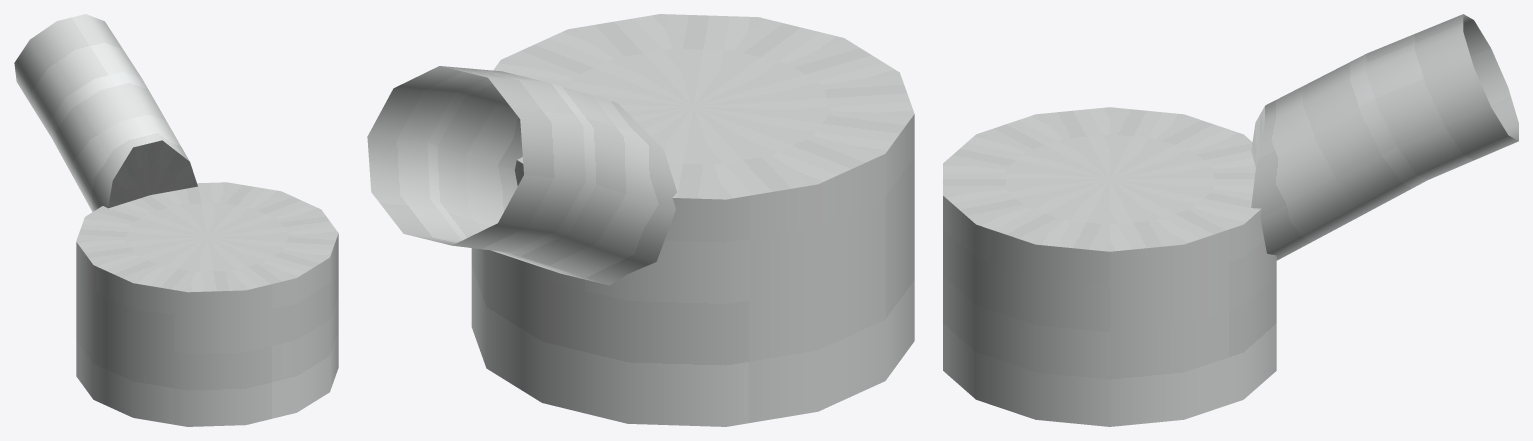
The model's file is nycsignalarm_regular6_c1.obj.
3 renders of one model, left to right at view 1: azimuth 30°, elevation 25°; view 2: azimuth 150°, elevation 25°; view 3: azimuth 270°, elevation 25°, orthographic. The views are drawn at different scales.
Parts seen in each view (by area): view 1: nycsignalarm_regular6_c1; view 2: nycsignalarm_regular6_c1; view 3: nycsignalarm_regular6_c1.
Part boxes in pixels (x1,y1,x2,y2): nycsignalarm_regular6_c1: (14, 14, 338, 426); nycsignalarm_regular6_c1: (367, 14, 914, 426); nycsignalarm_regular6_c1: (943, 14, 1518, 426).
Size of the model in its own units: 0.8188 by 0.8753 by 1.38.
